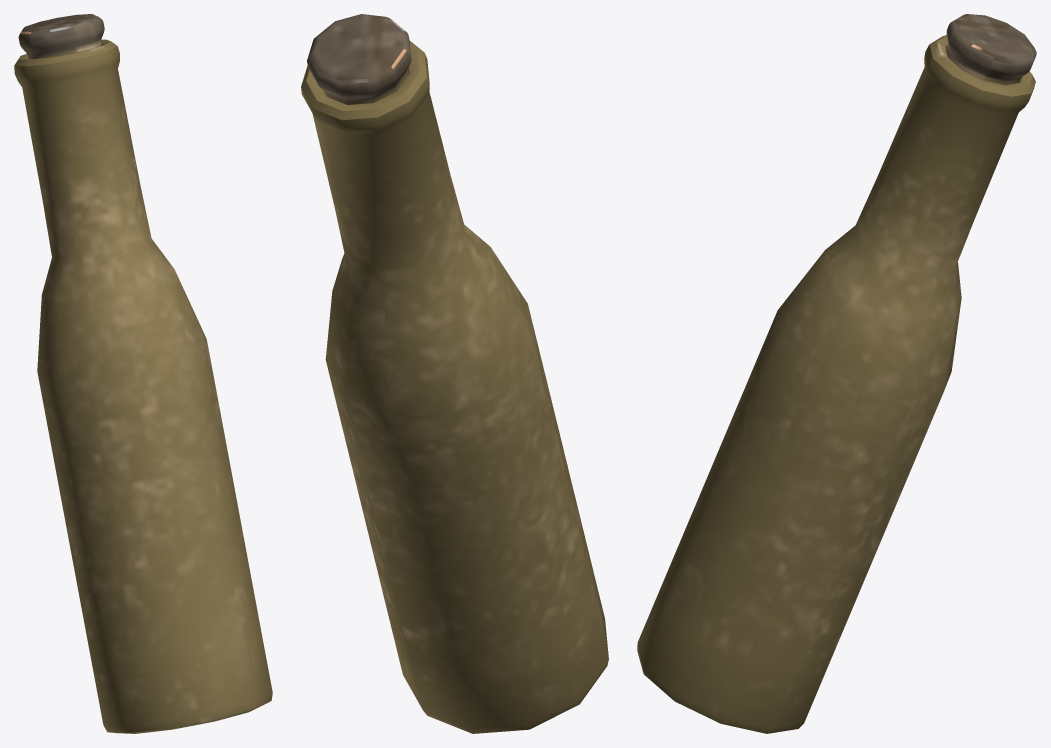
The model's file is Butelka.fbx.
3 renders of one model, left to right at view 1: azimuth 30°, elevation 25°; view 2: azimuth 150°, elevation 25°; view 3: azimuth 270°, elevation 25°, orthographic. The views are drawn at different scales.
Parts seen in each view (by area): view 1: Cylinder804; view 2: Cylinder804; view 3: Cylinder804.
Boxes of the visible parts, left/top/right/bottom form: Cylinder804: left=14, top=14, right=272, bottom=733; Cylinder804: left=301, top=14, right=608, bottom=733; Cylinder804: left=637, top=14, right=1036, bottom=733.
Size of the model in its own units: 0.0644 by 0.2634 by 0.1379.
